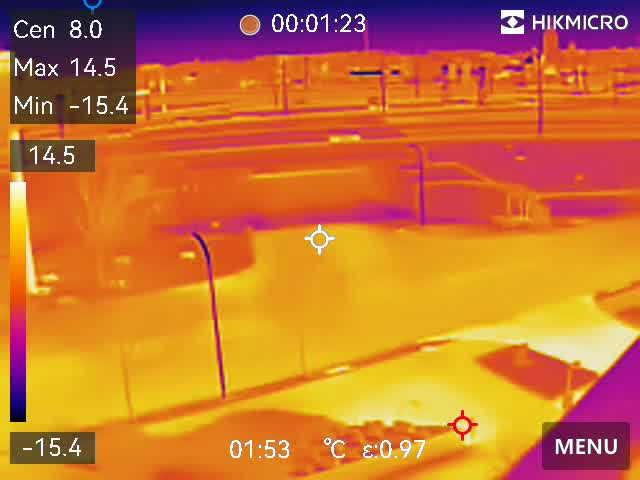vehicle: (327, 127, 365, 144)
